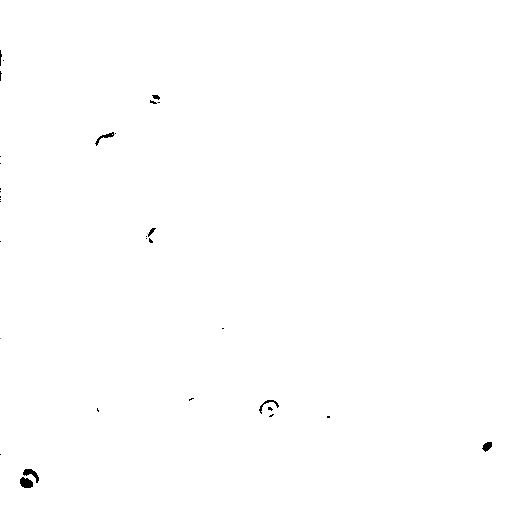micro-algae: (146, 428, 202, 483), (467, 424, 501, 464), (14, 460, 48, 492), (140, 219, 172, 249), (91, 127, 124, 156), (88, 390, 118, 418), (183, 391, 208, 414), (257, 397, 280, 415), (2, 50, 11, 78)
